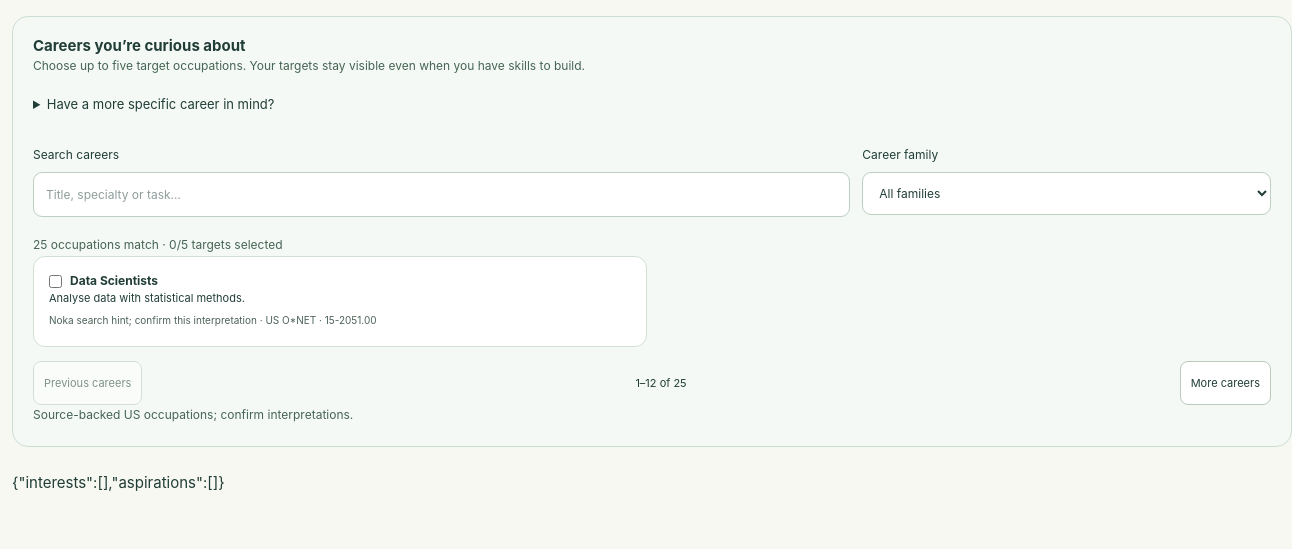
Test case: searches, filters and paginates the catalogue with bounded server requests
Check: the text "25 occupations match · 0/5 targets selected" is shown, box [33,237,283,252]
Type "software" into the search field labelled "Search careers".
click(442, 195); type("software")  # box [33,172,850,217]
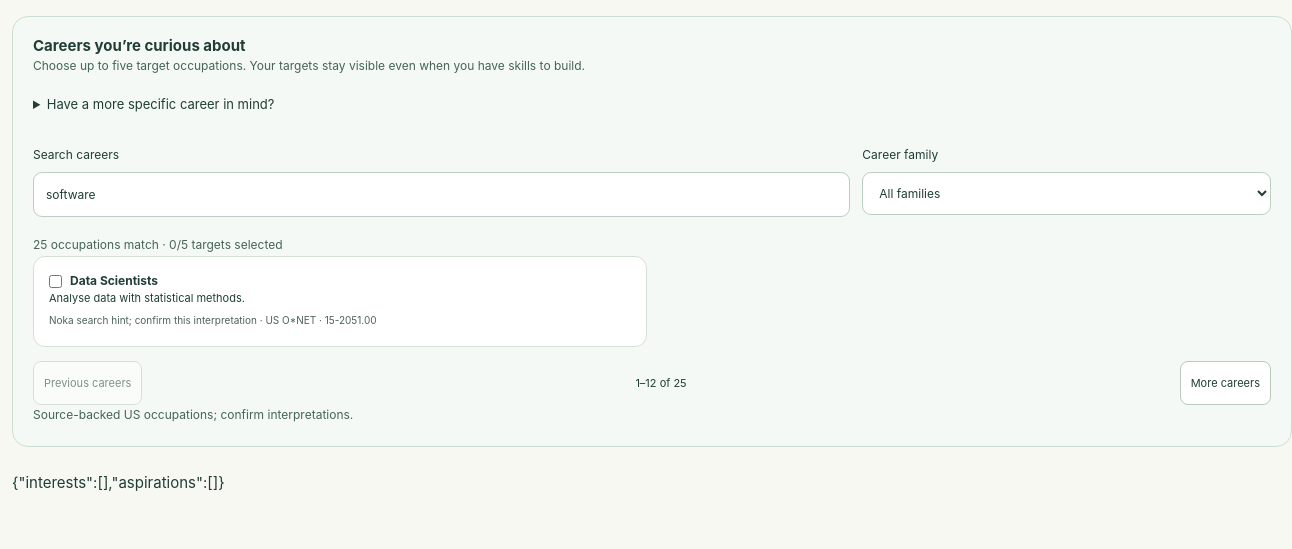
Select "Computer and mathematics" in the dropdown labelled "Career family" at (1067, 194), box [862,172,1271,215]
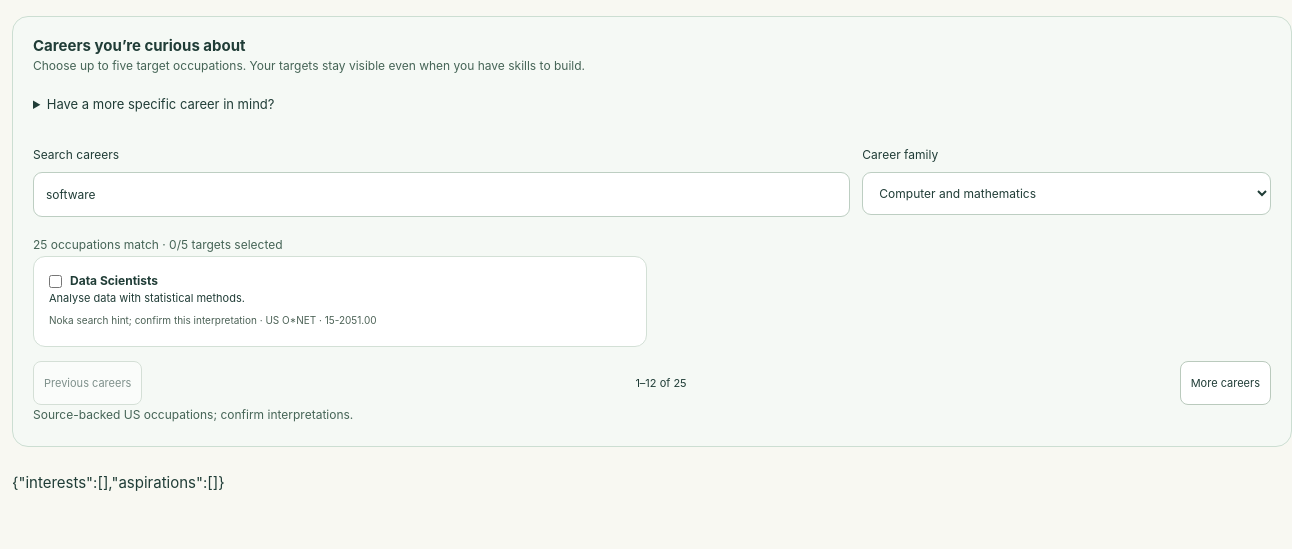
Click the button "More careers".
click(1225, 383)  # box [1180,361,1271,405]
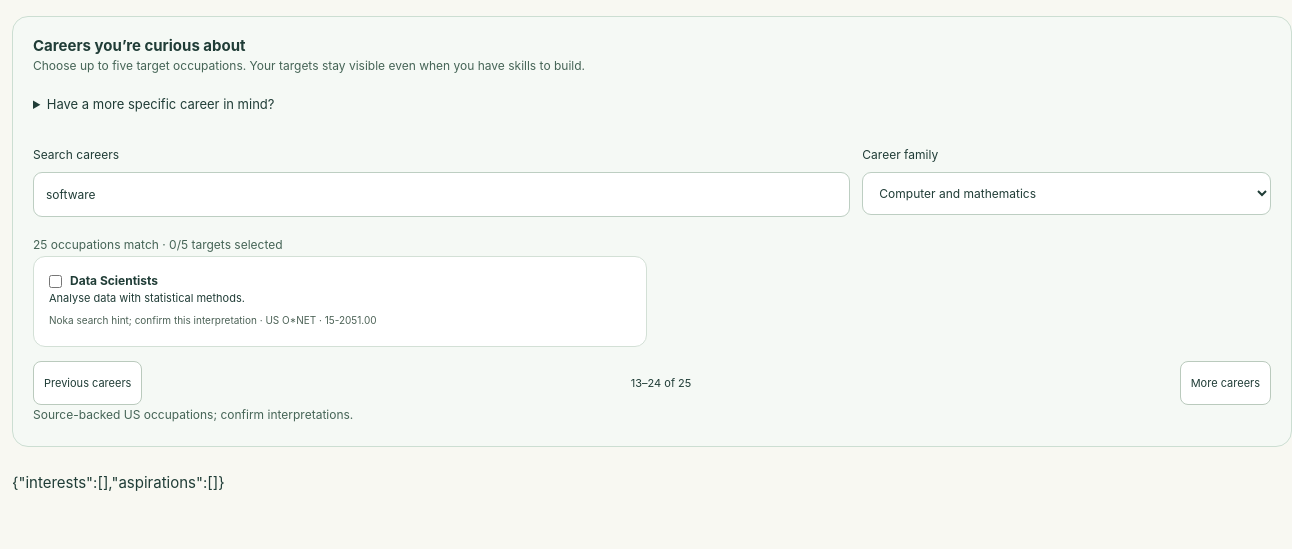
Click the checkbox labelled "Data Scientists".
click(56, 281)  # box [49,275,62,288]
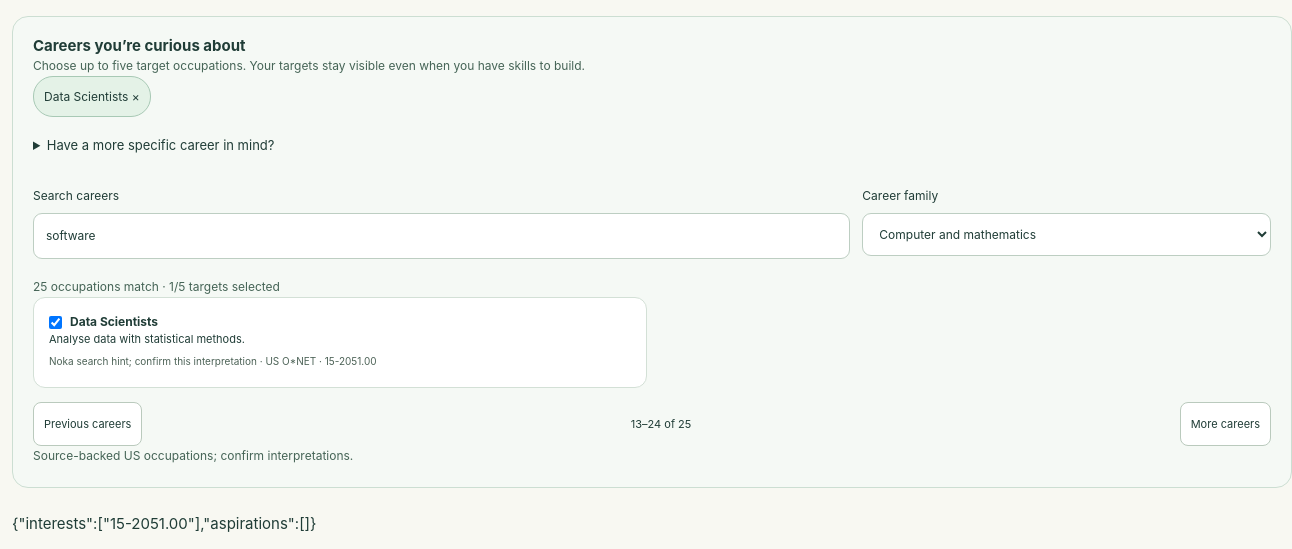
Check: the text named "Saved interests" shows "\"interests\":[\"15-2051.00\"]", box [12,514,316,533]
